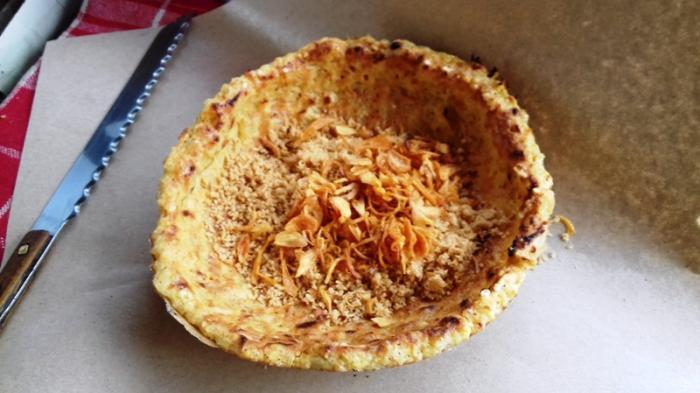kerak_telor: (148, 37, 556, 373)
